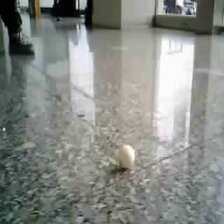w: (117, 144, 135, 168)
